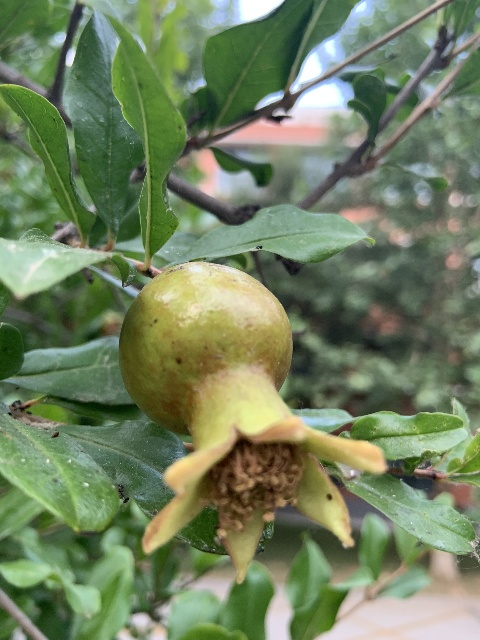mid-growth: (118, 261, 388, 584)
